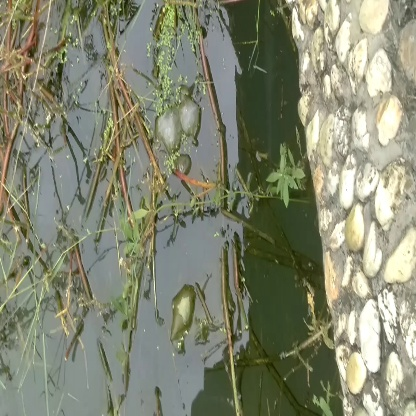plastic-bag: (145, 90, 205, 168)
